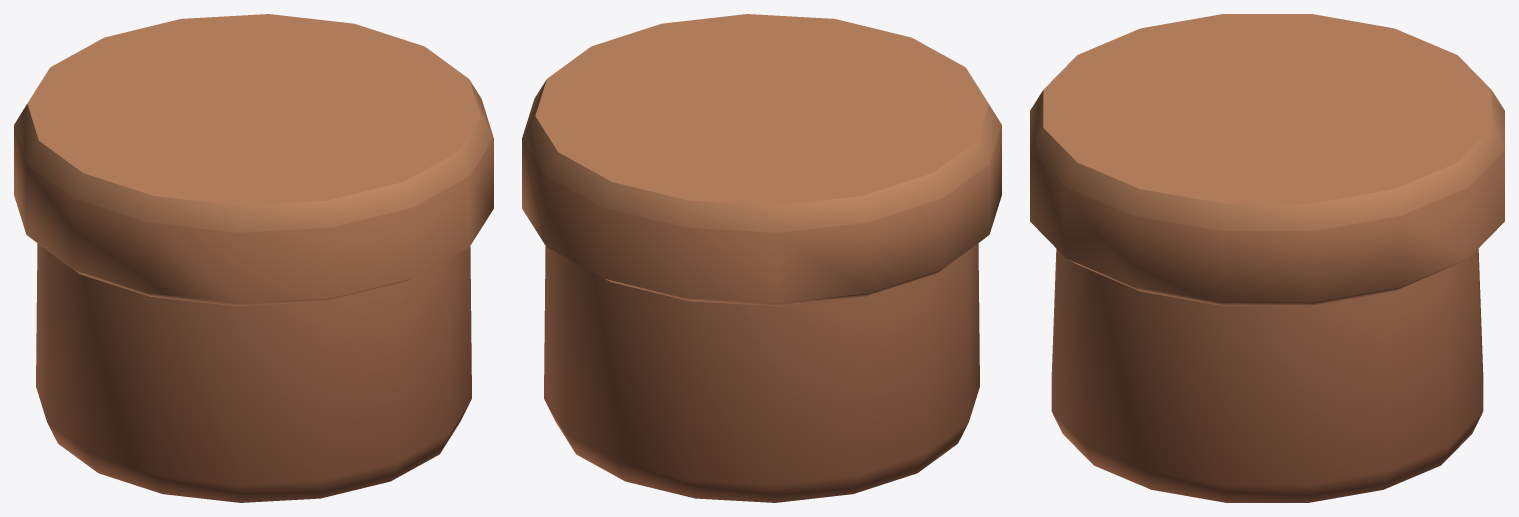
Rendered from tin-b-brown.glb.
3 renders of one model, left to right at view 1: azimuth 30°, elevation 25°; view 2: azimuth 150°, elevation 25°; view 3: azimuth 270°, elevation 25°, orthographic.
Visible parts, largest first — view 1: tin_B_brown; view 2: tin_B_brown; view 3: tin_B_brown.
Part boxes in pixels (left/top/right/bottom): tin_B_brown: left=14, top=14, right=493, bottom=502; tin_B_brown: left=522, top=14, right=1001, bottom=502; tin_B_brown: left=1030, top=14, right=1504, bottom=502.
Size of the model in its own units: 0.4 by 0.2951 by 0.4.
Materials: 1 (1 with a texture image).
